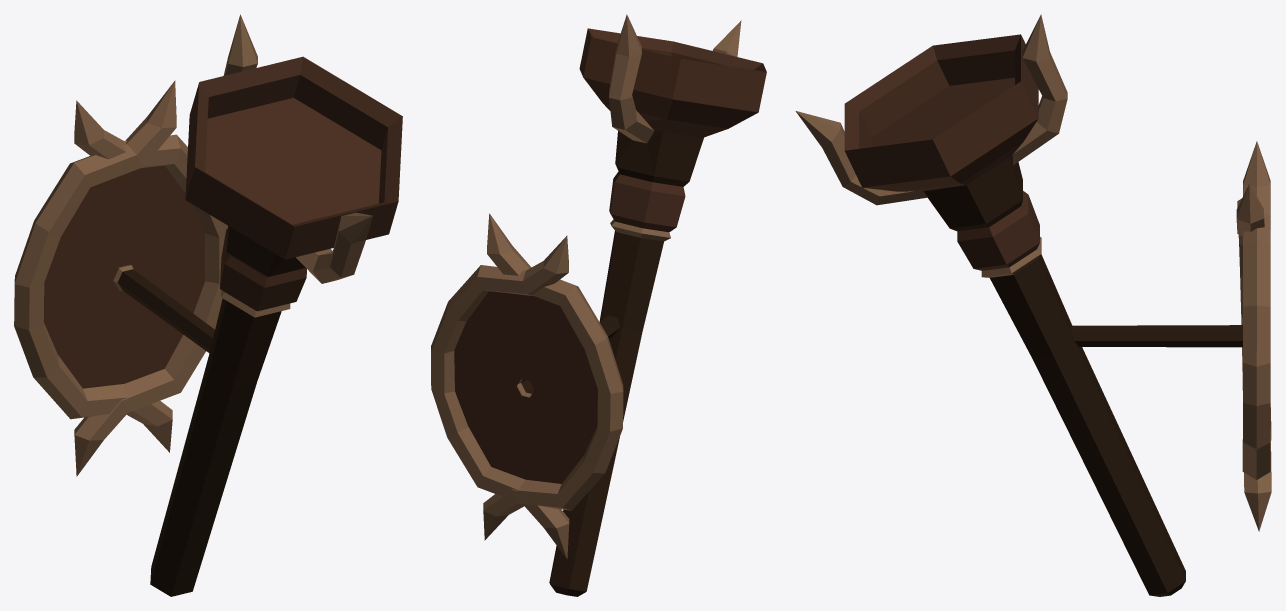
File: TorchesWallmounted.fbx
The picture shows the model from 3 angles, left to right: view 1: azimuth 30°, elevation 25°; view 2: azimuth 150°, elevation 25°; view 3: azimuth 270°, elevation 25°; orthographic projection. The views are drawn at different scales.
Parts seen in each view (by area): view 1: TorchesWallmounted_01; view 2: TorchesWallmounted_01; view 3: TorchesWallmounted_01.
Boxes of the visible parts, x1,y1,x2,y2 form: TorchesWallmounted_01: [14, 14, 402, 596]; TorchesWallmounted_01: [431, 14, 766, 596]; TorchesWallmounted_01: [795, 14, 1271, 596].
Size of the model in its own units: 0.3197 by 0.864 by 0.6434.
